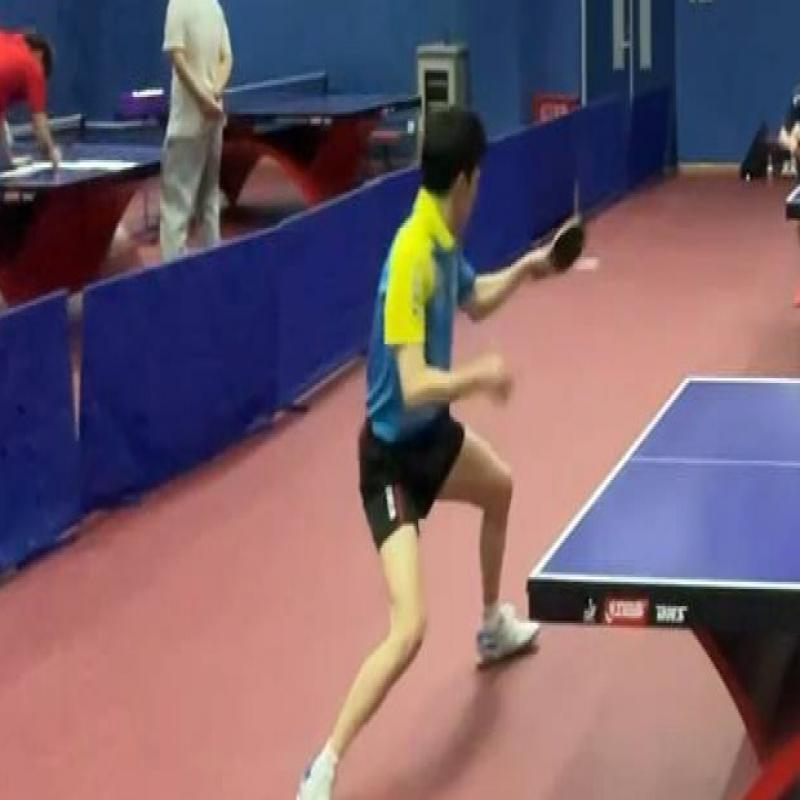bats: (543, 204, 592, 293)
